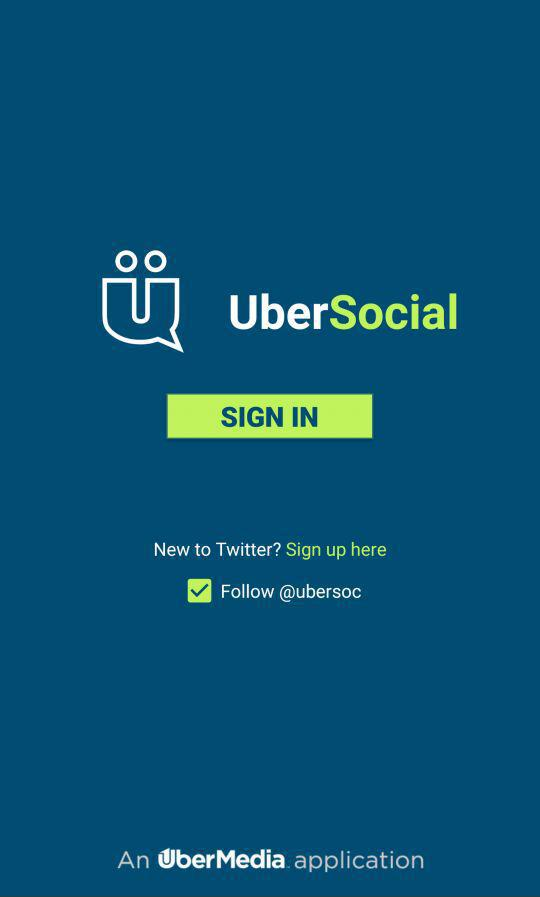CheckedTextView: (188, 579, 362, 604)
Image: (102, 250, 186, 355), (230, 293, 458, 331), (118, 848, 425, 873)
Text: (154, 541, 387, 561), (222, 584, 362, 603)
TextButton: (167, 394, 373, 439)
